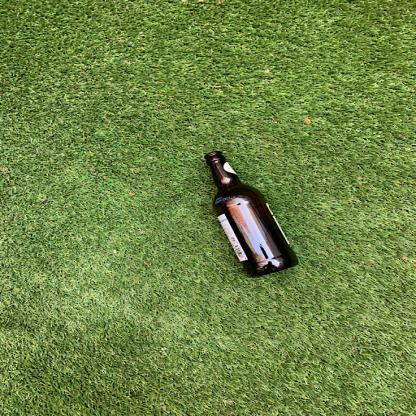trash: (194, 146, 303, 278)
